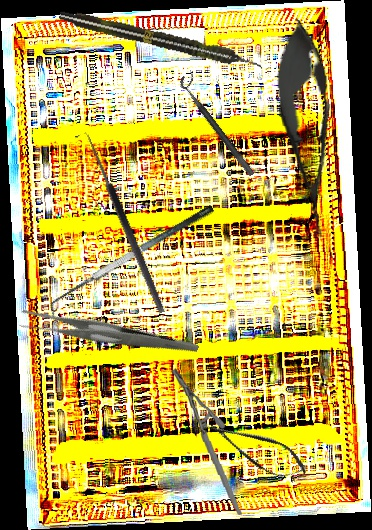Dressing Forceps: (15, 265, 200, 405)
Fixation Ring: (176, 70, 264, 178)
Handpiece: (57, 6, 265, 75)
Hook Surgical: (73, 130, 167, 318)
Micro Scissor: (269, 14, 346, 245), (201, 410, 313, 489)
Needle Holder: (169, 363, 243, 520)
Spatula Surgical: (41, 203, 223, 319)
